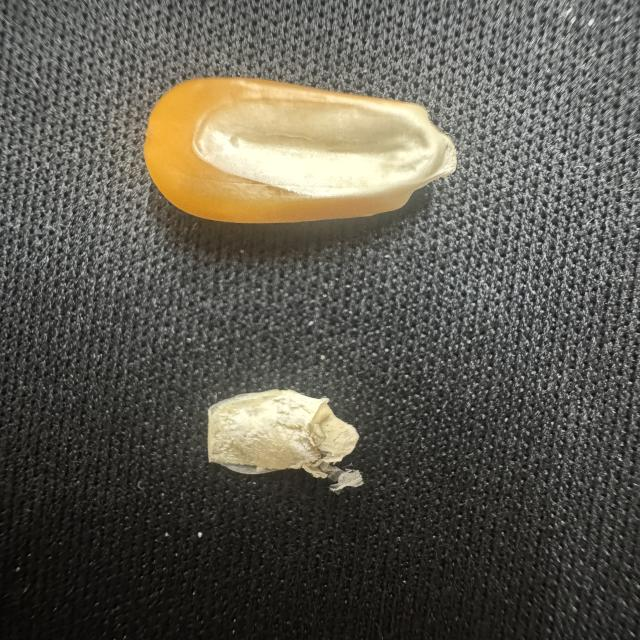Bad-Seed: (200, 383, 376, 493)
Good-Seed: (138, 73, 470, 228)
